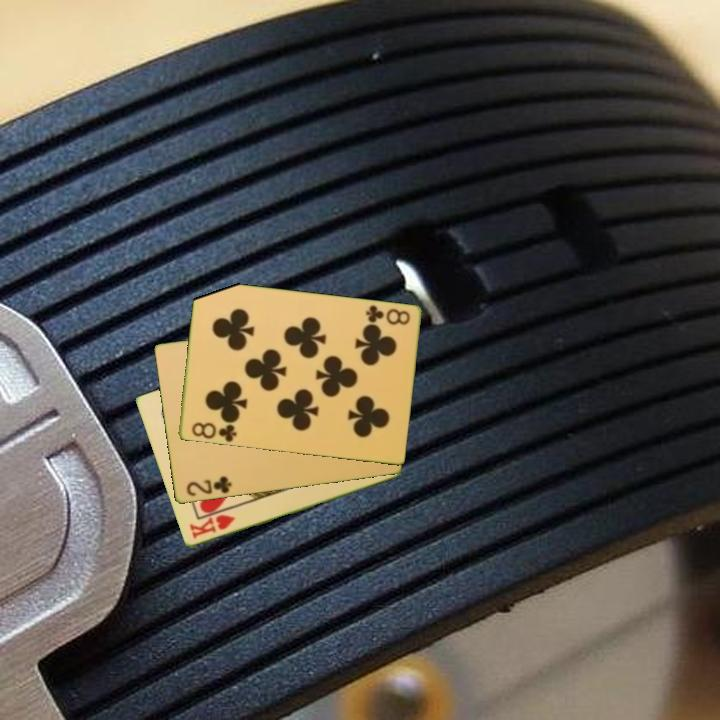2c: (183, 473, 234, 500)
8c: (188, 418, 239, 444), (362, 302, 413, 328)
Kh: (186, 511, 238, 542)
